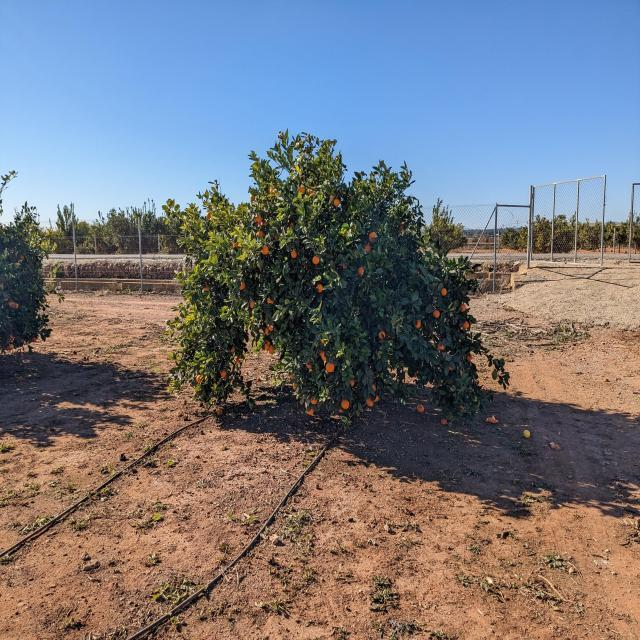Jeruk Sudah Matang: (326, 364, 336, 374), (262, 246, 270, 256), (240, 280, 248, 290), (370, 232, 378, 241), (438, 344, 447, 352), (462, 323, 470, 332), (256, 229, 264, 238), (310, 398, 319, 406), (312, 256, 320, 264), (441, 287, 449, 295), (433, 308, 441, 316), (306, 409, 314, 417), (290, 250, 298, 258), (522, 430, 530, 438), (279, 134, 287, 142), (255, 216, 262, 225), (308, 188, 314, 198), (334, 198, 341, 206), (418, 404, 425, 412), (366, 399, 374, 406), (378, 332, 386, 339), (317, 284, 324, 292), (441, 418, 449, 425), (303, 364, 311, 371), (364, 244, 371, 252), (266, 298, 274, 305), (195, 374, 202, 382), (342, 401, 349, 408), (350, 380, 357, 387), (221, 371, 228, 378), (270, 187, 277, 194), (416, 322, 422, 330), (358, 267, 364, 275), (206, 212, 212, 220), (374, 394, 380, 402), (468, 354, 473, 362), (265, 328, 270, 336), (269, 346, 274, 354), (250, 300, 255, 308), (268, 326, 274, 332), (300, 187, 304, 196), (250, 194, 256, 200), (204, 284, 209, 290), (322, 338, 326, 345), (235, 358, 239, 365), (265, 344, 269, 351), (372, 384, 376, 391), (231, 347, 235, 352)
